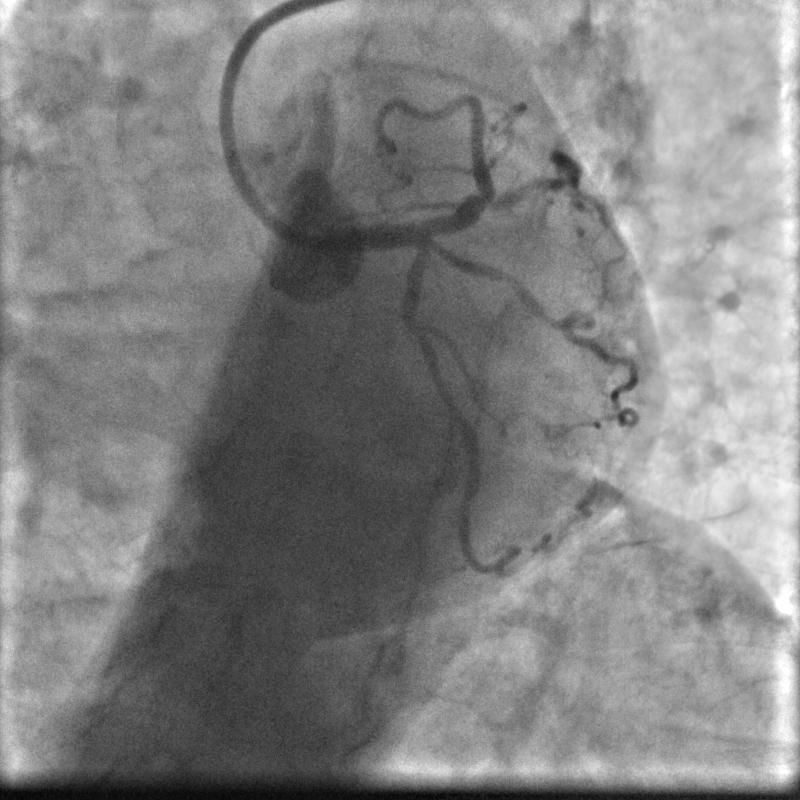Stenosis: (399, 311, 431, 337)
